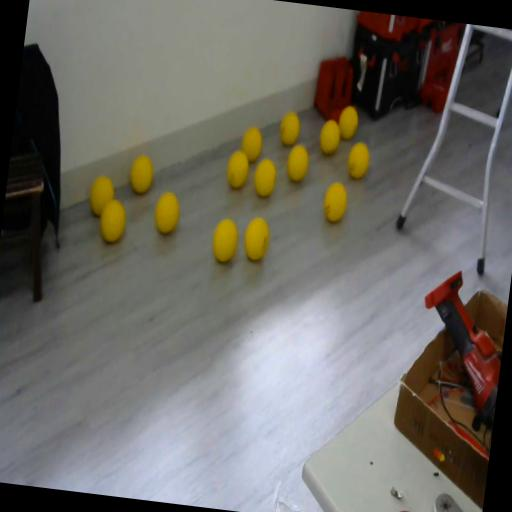FUEL: (97, 196, 129, 244), (241, 215, 272, 264), (151, 188, 182, 236), (210, 216, 240, 265), (320, 180, 350, 225), (127, 153, 156, 196), (251, 156, 278, 198), (238, 124, 264, 165), (224, 149, 250, 190), (346, 140, 372, 180), (285, 144, 310, 184), (318, 118, 342, 156), (278, 110, 302, 146), (336, 104, 360, 140)
